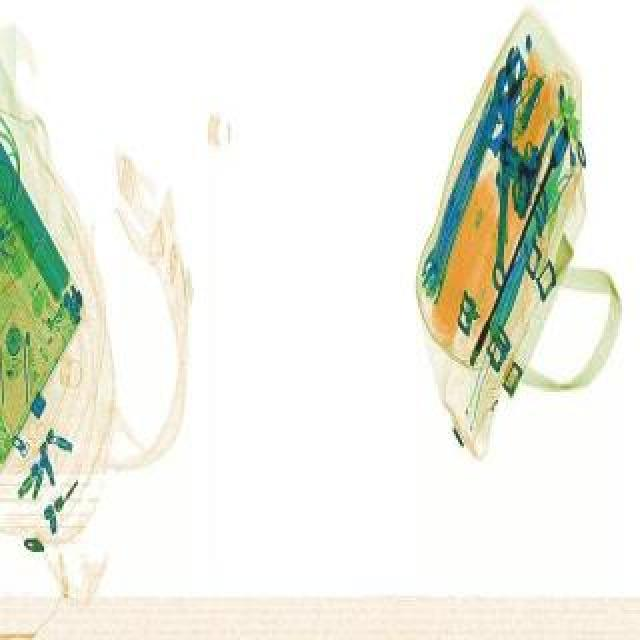gun: (480, 106, 558, 218)
scissors: (464, 124, 576, 364), (490, 42, 526, 288)
